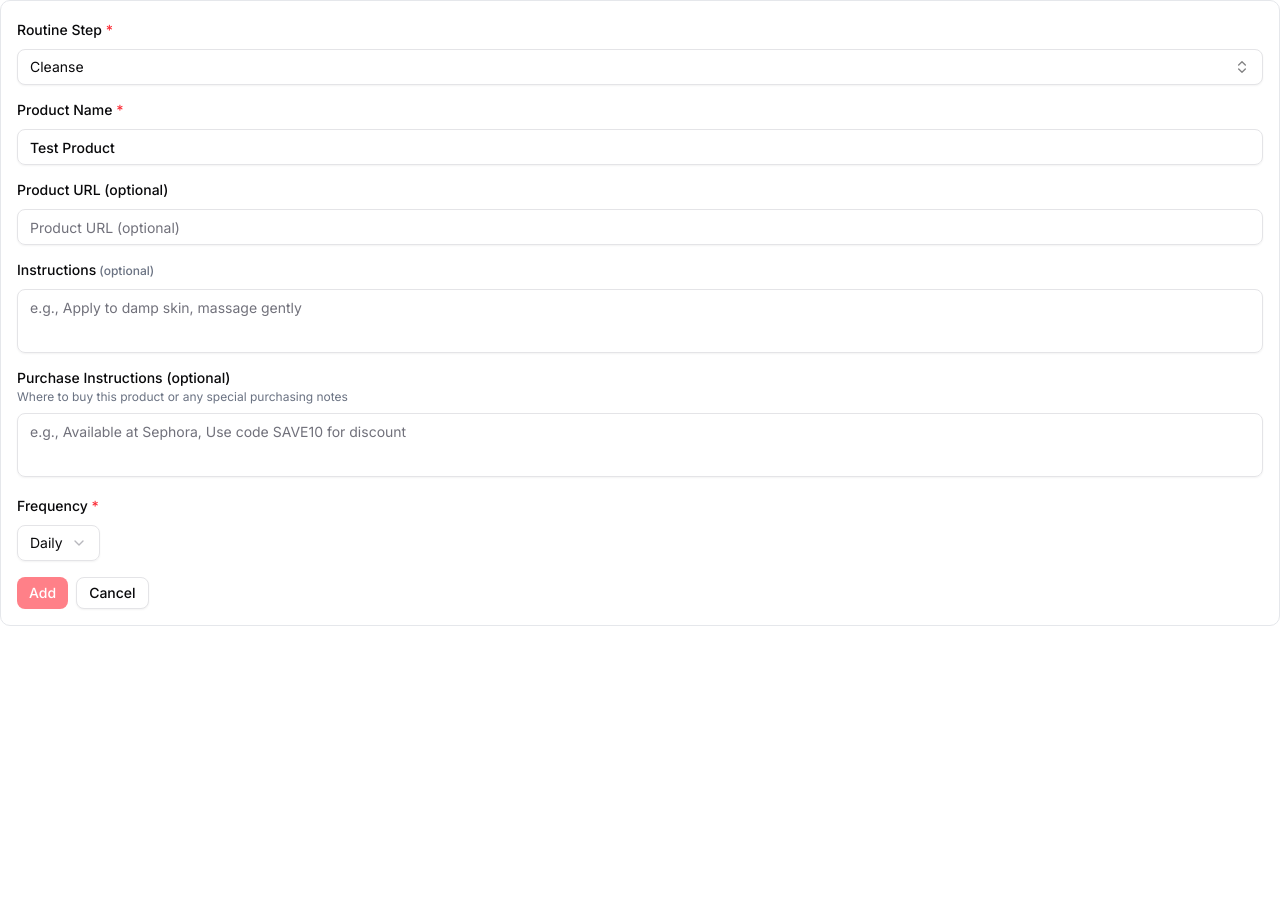
ProductForm › Error Message Interaction Behavior › error message does NOT appear immediately after selecting non-daily frequency
The width and height of the screenshot is (1280, 900).
Step 1. Click the dropdown labelled "Daily" → (58, 543), box top-left (17, 525), bottom-right (100, 561)
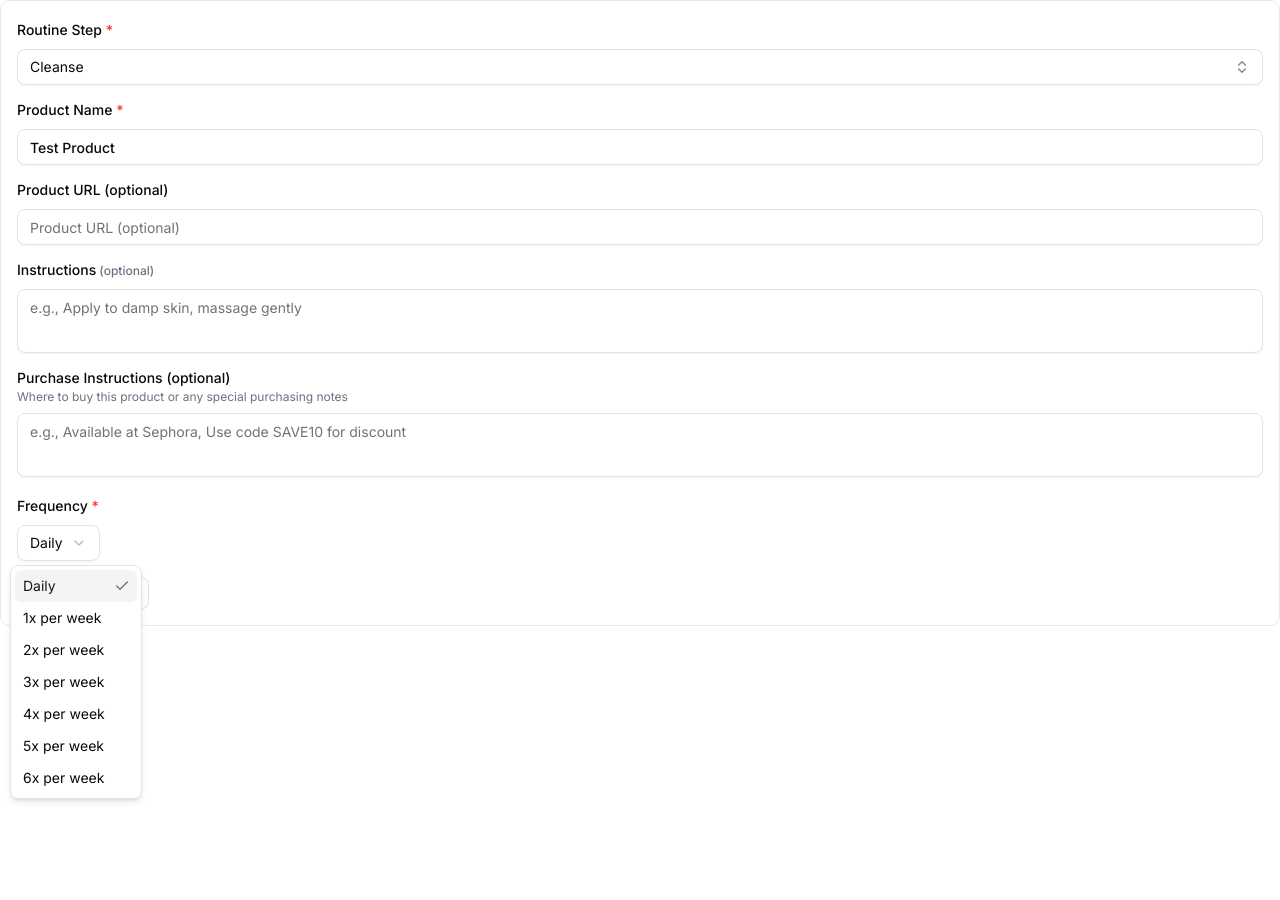
Step 2. Click the option "3x per week" → (64, 682), box top-left (23, 673), bottom-right (104, 690)
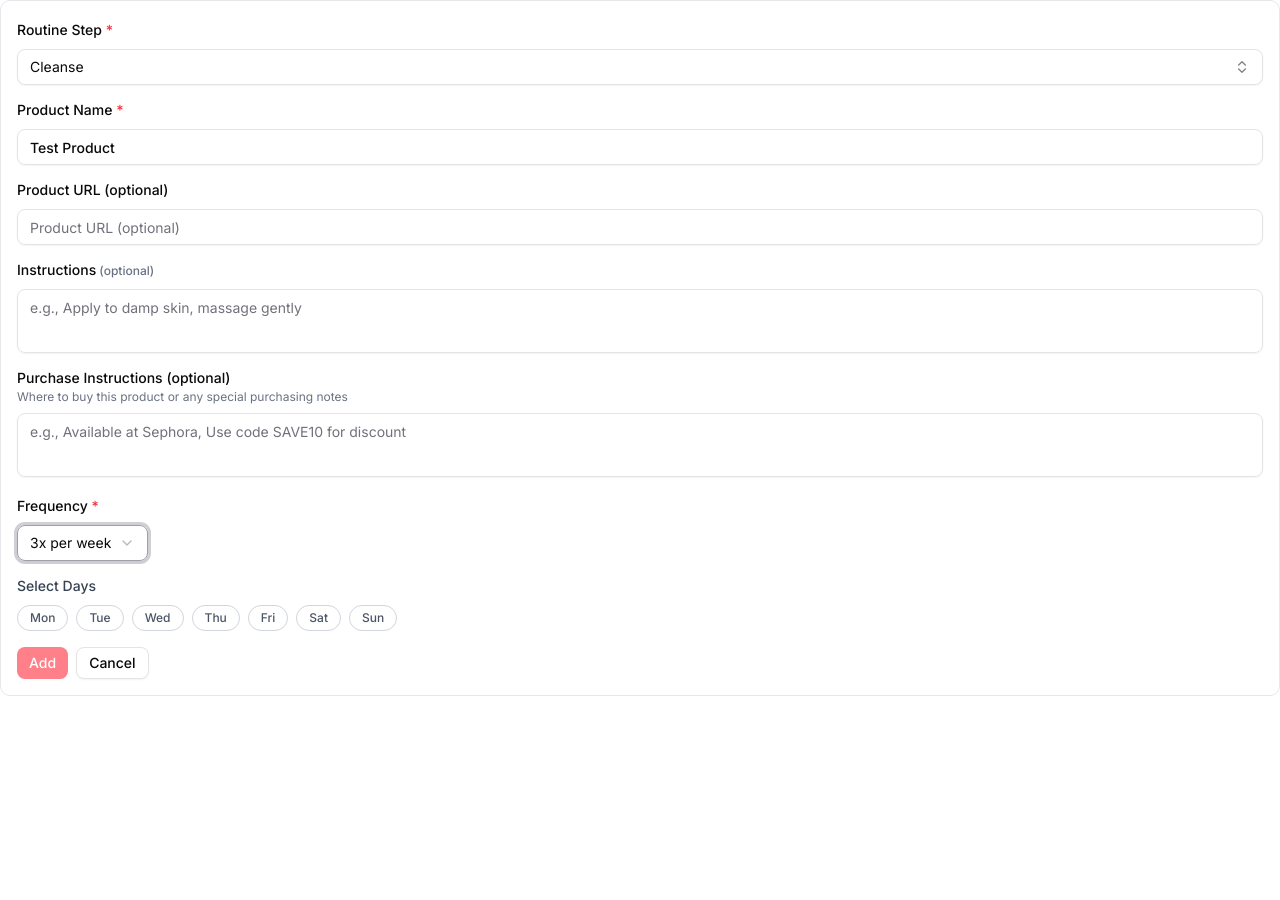
Expected: the button "Mon" is shown, top-left (17, 605), bottom-right (68, 631)
